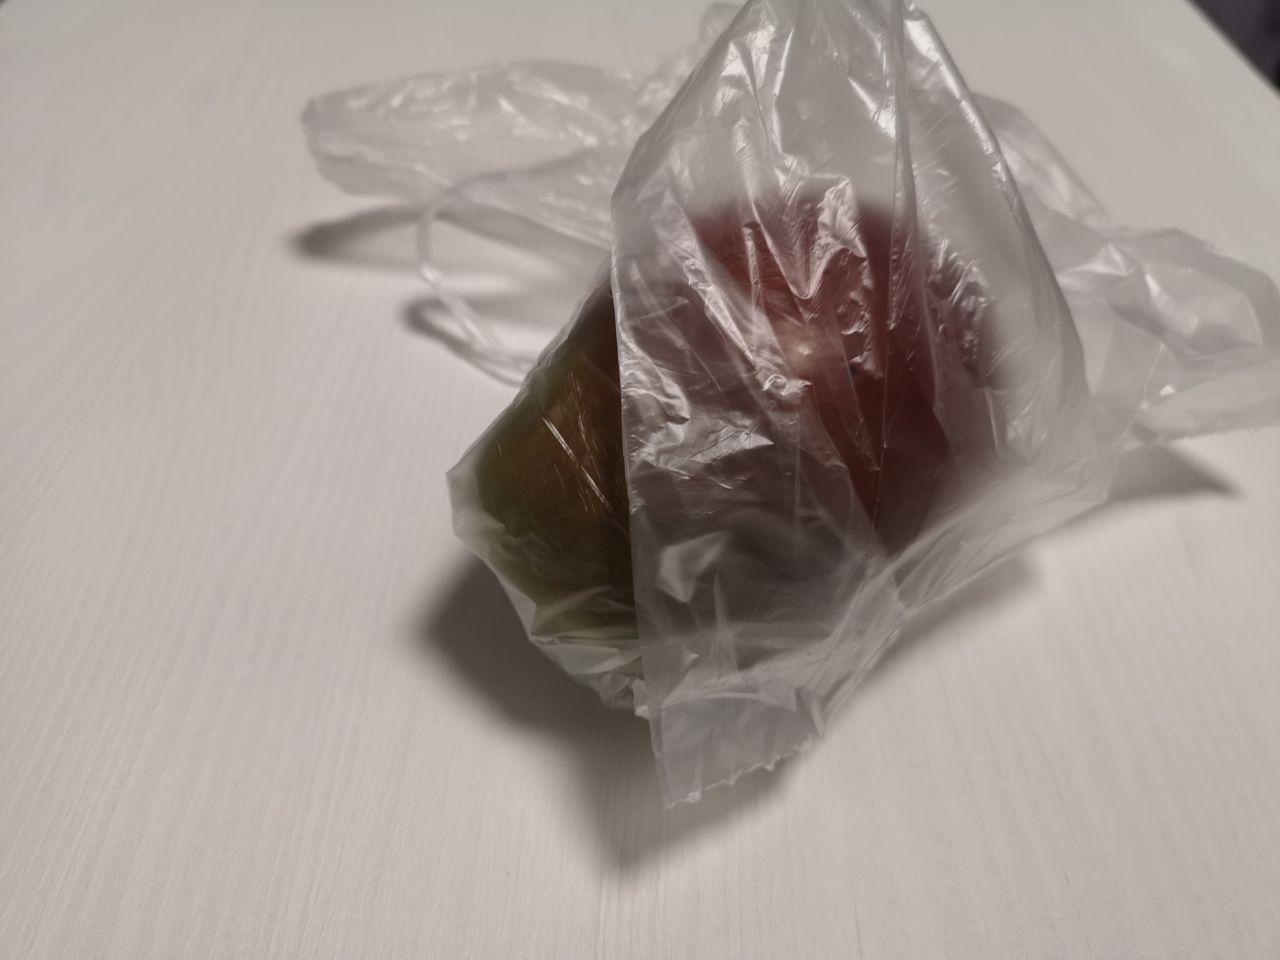mango: (369, 117, 1112, 764)
